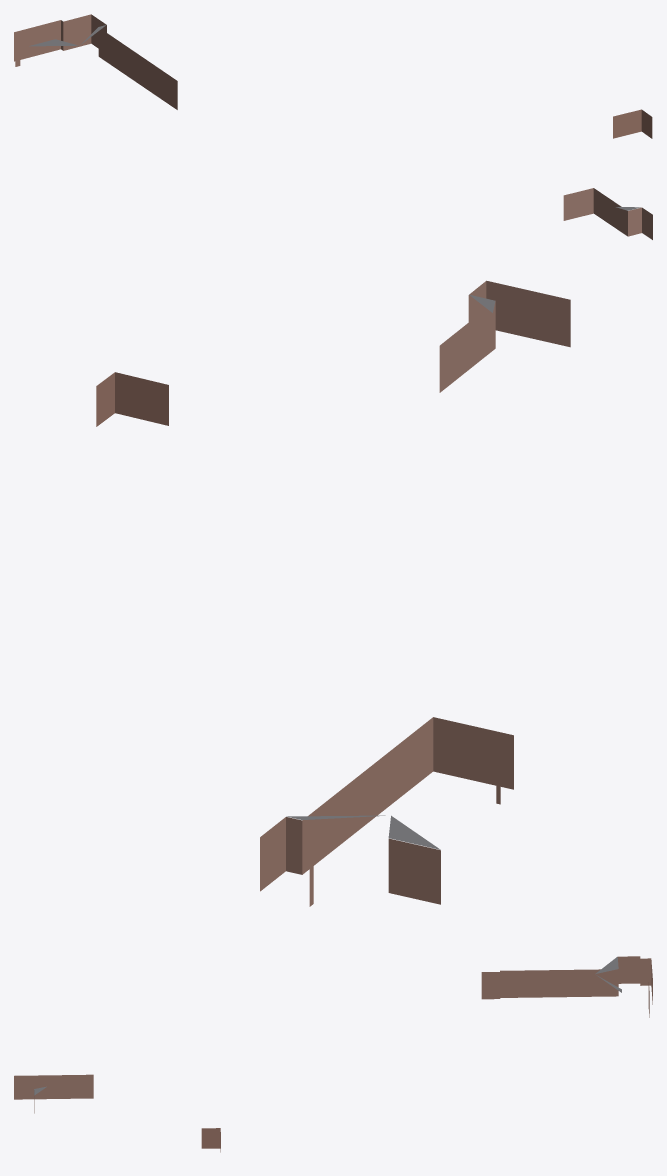
The model's file is c_1637_17827_buildings_residential.glb.
3 renders of one model, top to bottom at view 1: azimuth 30°, elevation 25°; view 2: azimuth 150°, elevation 25°; view 3: azimuth 270°, elevation 25°, orthographic. The views are drawn at different scales.
Parts seen in each view (by area): view 1: geometry_0; view 2: geometry_0; view 3: geometry_0.
Boxes of the visible parts, box(x1,y1,x2,y2) form: geometry_0: box(14, 14, 652, 239); geometry_0: box(96, 280, 570, 906); geometry_0: box(14, 956, 652, 1152).
Bounding box in the file's own units: 180 × 12.72 × 268.
